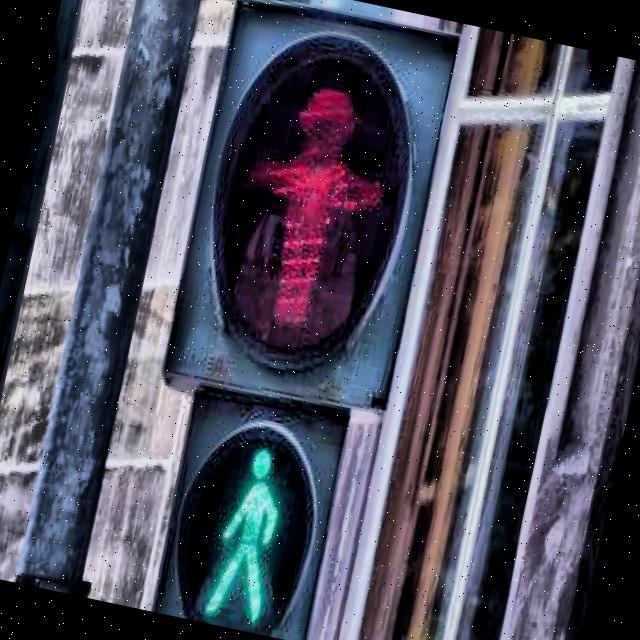green_light: (198, 432, 298, 626)
